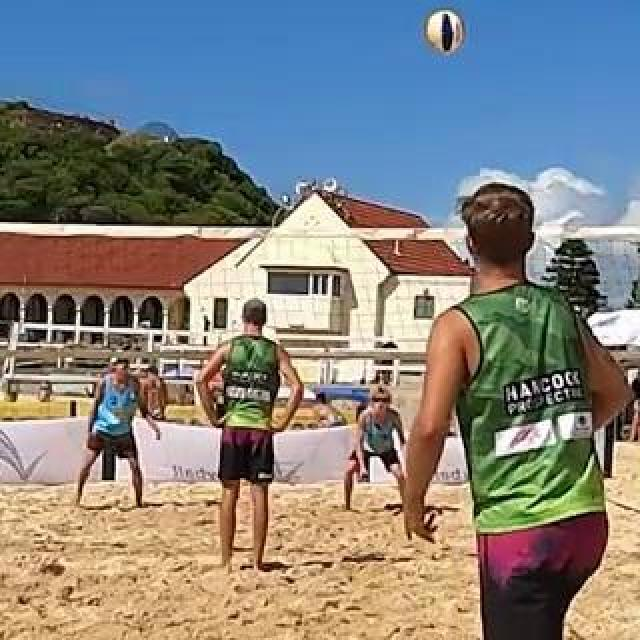volleyball: (426, 11, 466, 51)
